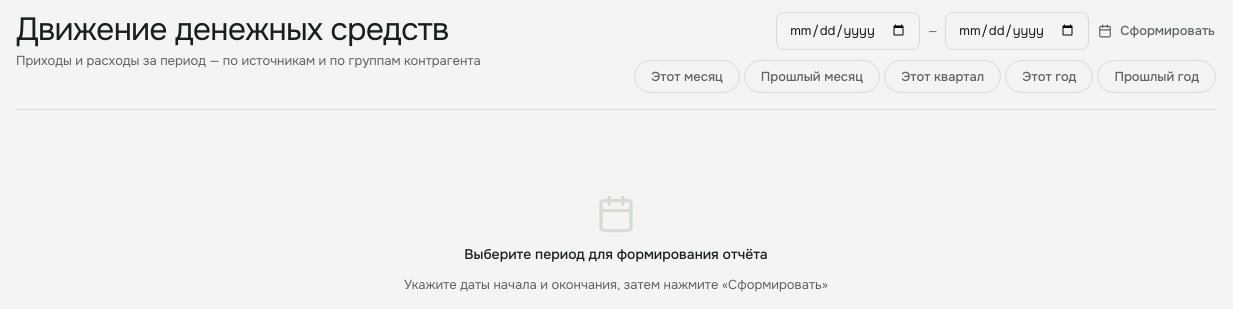
Scenario: CashFlowReport › сетевая ошибка не роняет страницу
In the date field named "Дата начала": point(848, 31) [776, 12, 920, 50], type "2026-01-01"
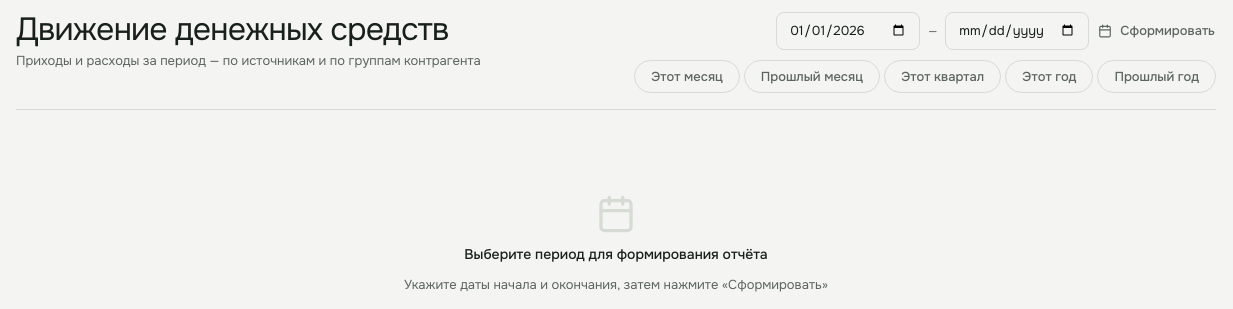
In the date field named "Дата окончания": point(1017, 31) [945, 12, 1089, 50], type "2026-06-30"
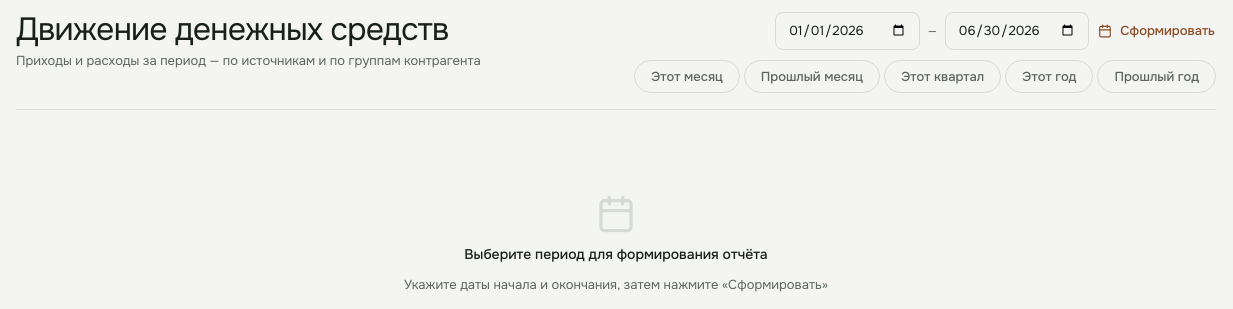
Click the button "Сформировать": point(1157, 31) [1097, 20, 1216, 42]
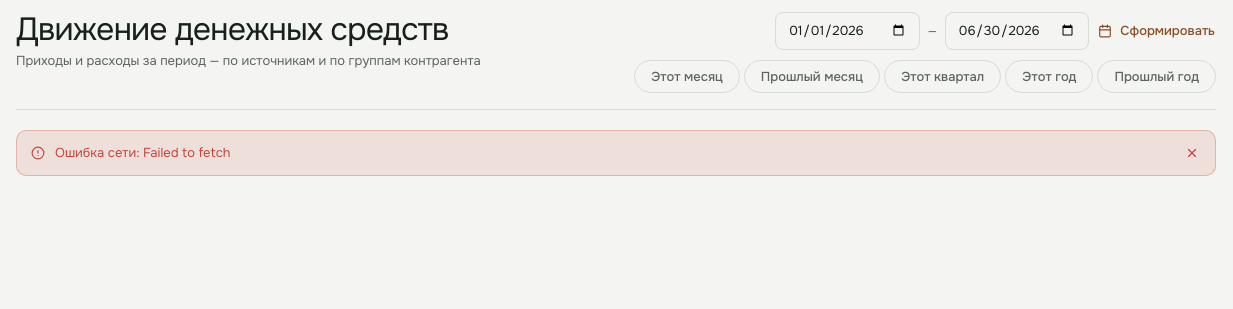
Expected: the text "Ошибка сети: Failed to fetch" is shown, [55, 144, 230, 161]
